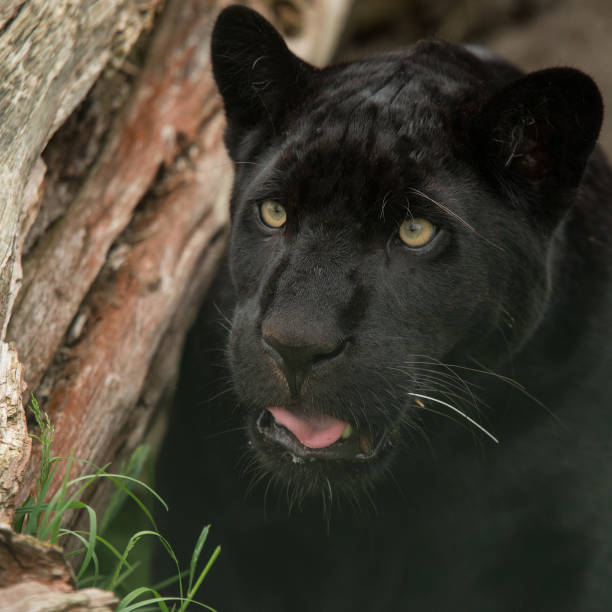panther: (203, 4, 610, 531)
